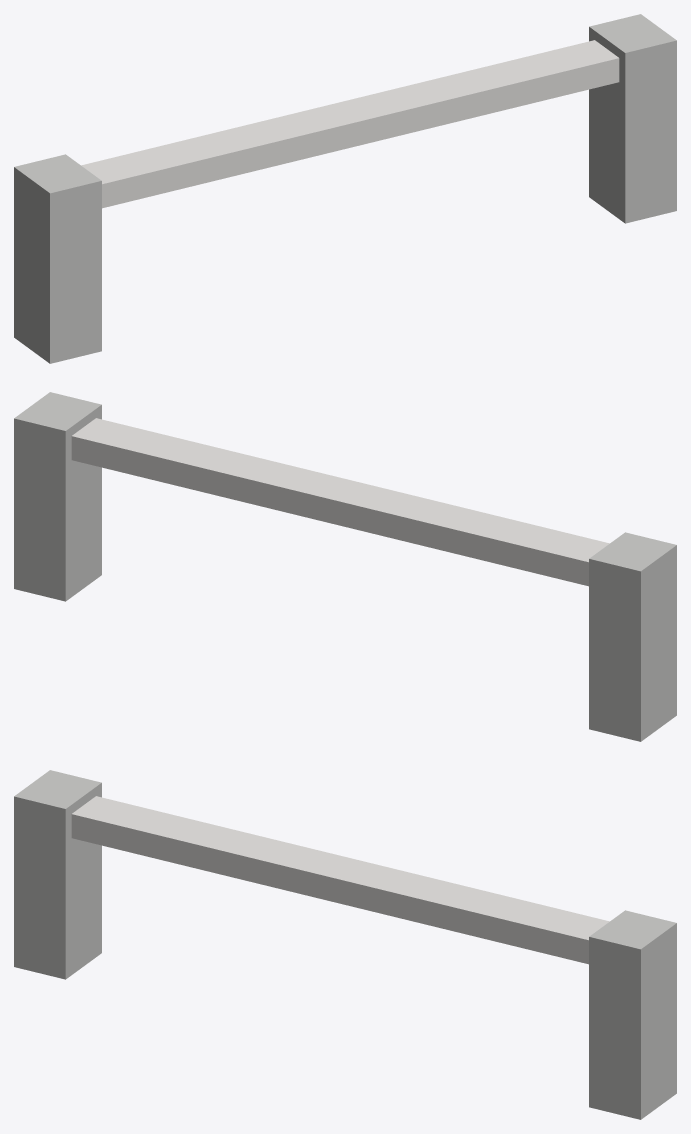
File: SM_Fence_02_D.fbx
3 renders of one model, top to bottom at view 1: azimuth 30°, elevation 25°; view 2: azimuth 150°, elevation 25°; view 3: azimuth 330°, elevation 25°, orthographic.
Parts seen in each view (by area): view 1: polySurface59; view 2: polySurface59; view 3: polySurface59.
Boxes of the visible parts, x1=… form: polySurface59: x1=14, y1=14, x2=676, y2=363; polySurface59: x1=14, y1=392, x2=676, y2=741; polySurface59: x1=14, y1=770, x2=676, y2=1119.
Bounding box in the file's own units: 218 × 56.68 × 21.77.
1 material, 1 textured.
